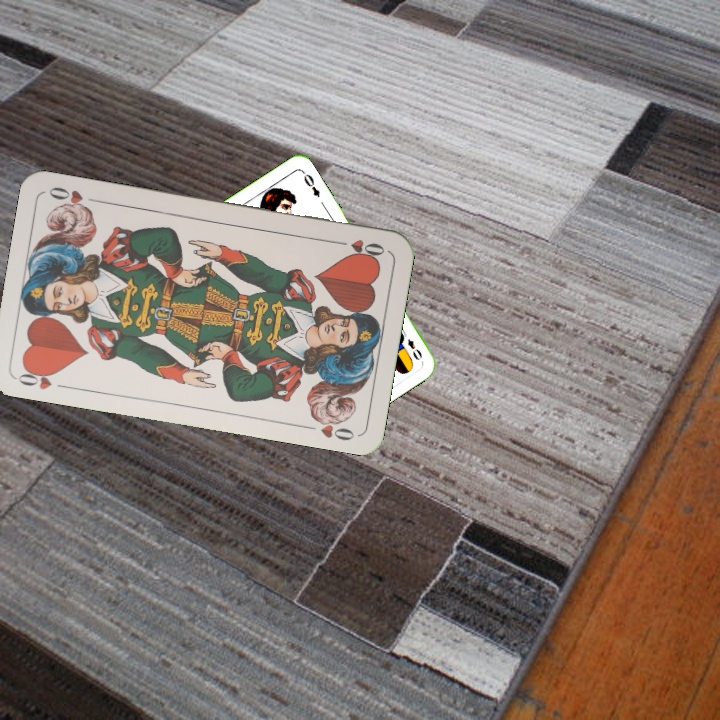EO: (398, 327, 425, 363)
HO: (13, 362, 72, 393), (330, 235, 388, 261)
